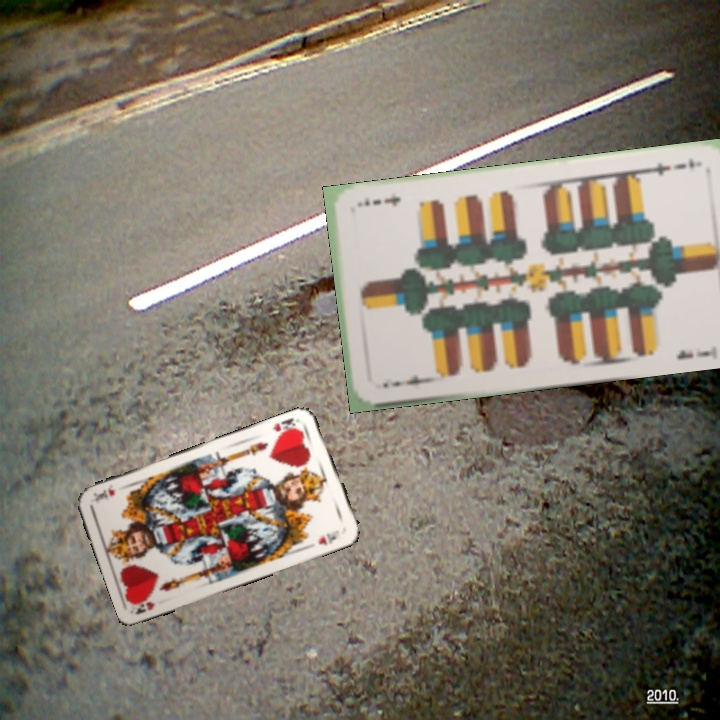E7: (378, 370, 431, 391), (637, 158, 689, 179)
HK: (268, 414, 304, 439), (129, 596, 157, 617)
